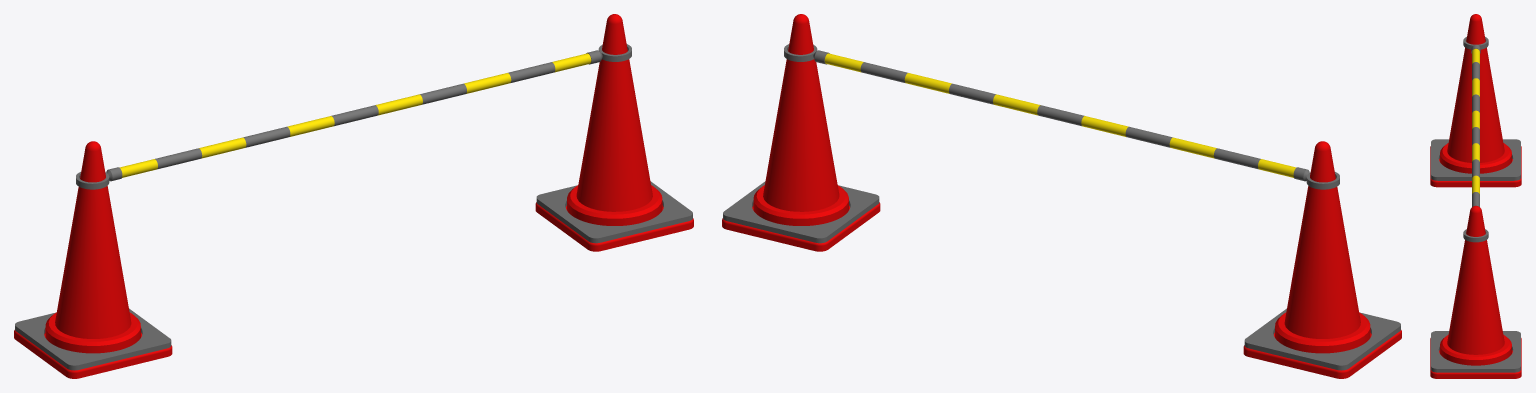
The model's file is 698_規制セット2m.glb.
The picture shows the model from 3 angles, left to right: view 1: azimuth 30°, elevation 25°; view 2: azimuth 150°, elevation 25°; view 3: azimuth 270°, elevation 25°; orthographic projection. The views are drawn at different scales.
Parts seen in each view (by area): view 1: pylon, pylon2, pylon_bar_2m, bed, bed2; view 2: pylon, pylon2, pylon_bar_2m, bed, bed2; view 3: pylon2, pylon, bed2, pylon_bar_2m, bed.
Boxes of the visible parts, x1,y1,x2,y2 form: pylon: [14, 141, 172, 378]; pylon2: [535, 14, 693, 251]; pylon_bar_2m: [76, 44, 631, 189]; bed: [15, 308, 171, 370]; bed2: [536, 181, 692, 243]; pylon: [1243, 141, 1401, 378]; pylon2: [722, 14, 880, 251]; pylon_bar_2m: [784, 44, 1339, 189]; bed: [1244, 308, 1400, 370]; bed2: [723, 181, 879, 243]; pylon2: [1430, 205, 1521, 378]; pylon: [1430, 14, 1521, 187]; bed2: [1431, 331, 1520, 372]; pylon_bar_2m: [1463, 37, 1488, 242]; bed: [1431, 139, 1520, 180].
Size of the model in its own units: 2.27 by 0.705 by 0.38.
